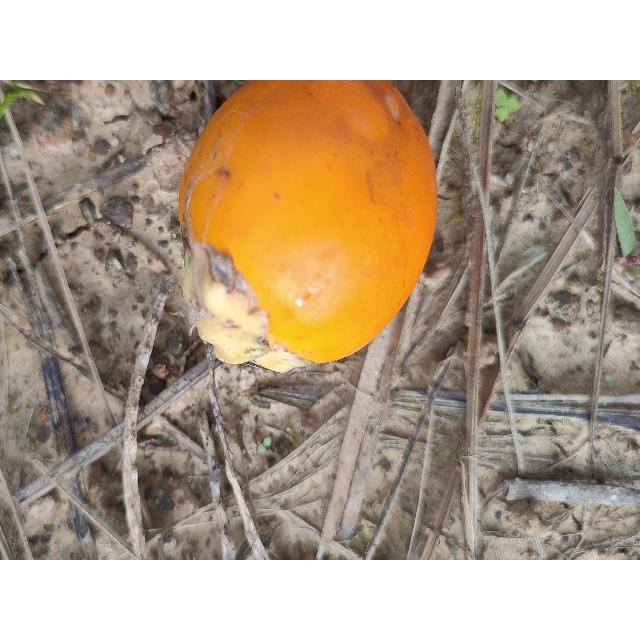good: (176, 80, 438, 369)
